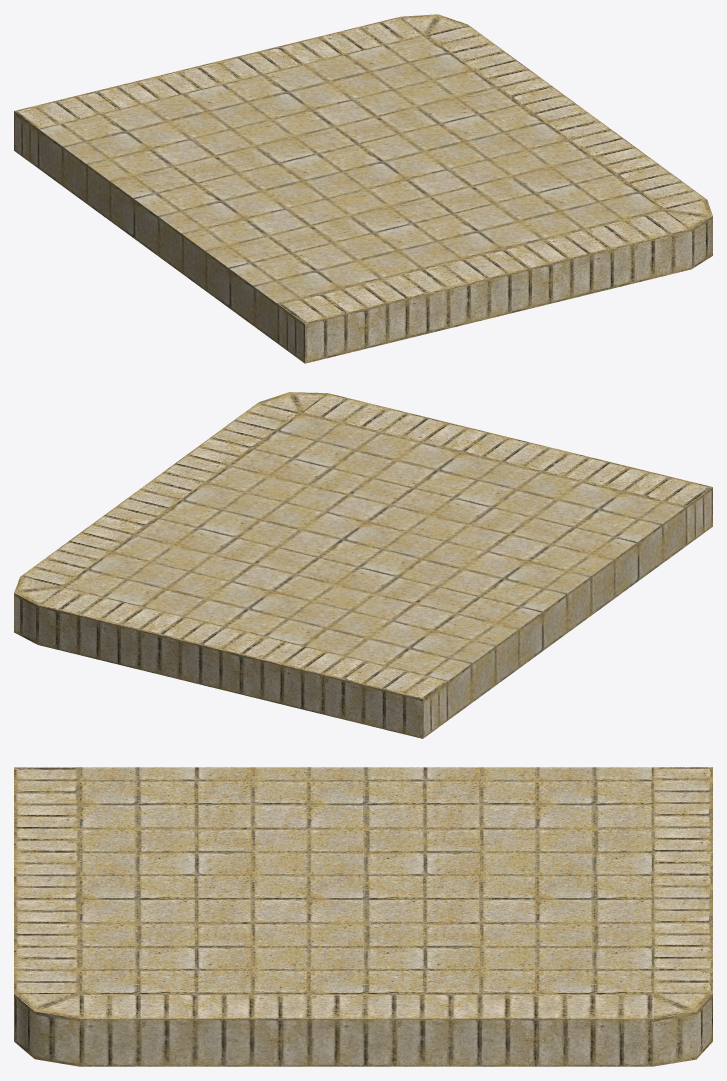
File: desert_thin_platform.dae
The picture shows the model from 3 angles, top to bottom: view 1: azimuth 30°, elevation 25°; view 2: azimuth 150°, elevation 25°; view 3: azimuth 270°, elevation 25°; orthographic projection. The views are drawn at different scales.
Visible parts, largest first — view 1: desert_thin_platform; view 2: desert_thin_platform; view 3: desert_thin_platform.
Boxes of the visible parts, bbox=[...] form: desert_thin_platform: bbox=[14, 14, 712, 363]; desert_thin_platform: bbox=[14, 392, 712, 738]; desert_thin_platform: bbox=[14, 767, 712, 1066].
Bounding box in the file's own units: 1.84 × 2.16 × 0.1628.
2 materials, 2 textured.
